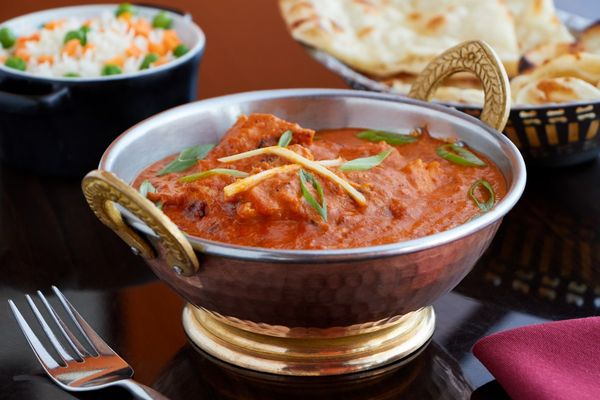sushi: (89, 88, 517, 380), (0, 3, 206, 178), (0, 2, 206, 112)
